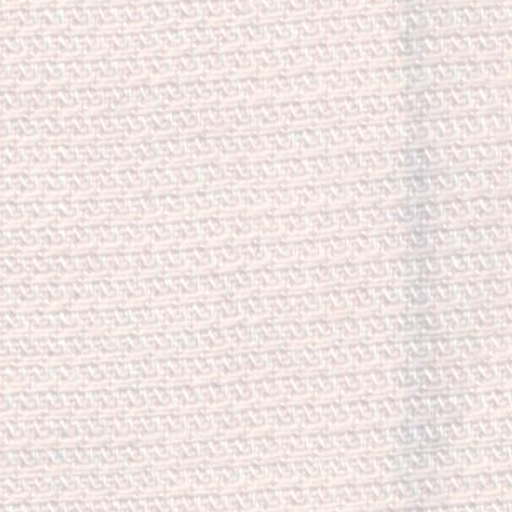WuZi: (372, 26, 484, 498)
